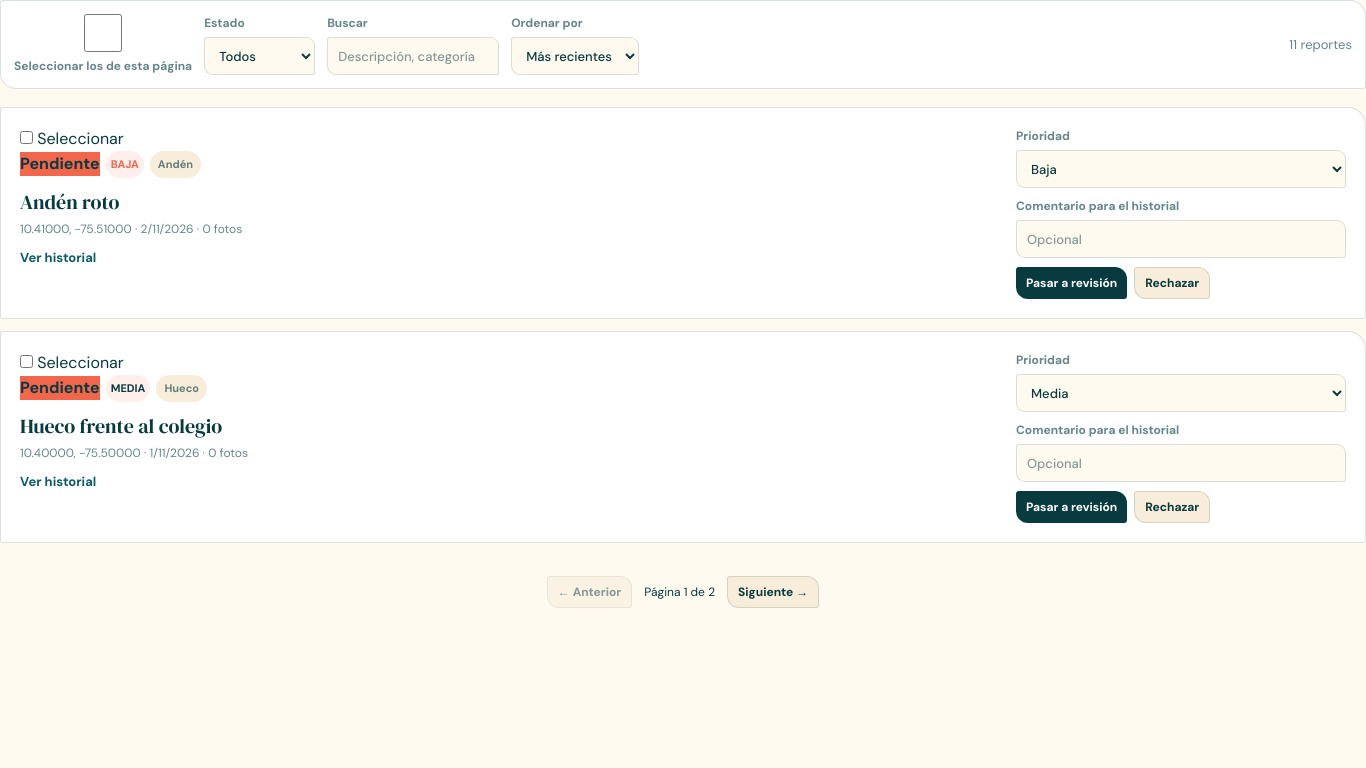
Test: ReportesAdmin › limpia la selección al cambiar el filtro o la página
The image size is (1366, 768).
Expected: the link "Hueco frente al colegio" is shown, [20, 412, 222, 440]
Step 1. Click the checkbox named "Seleccionar reporte Hueco frente al colegio" → (26, 362), box [20, 355, 33, 368]
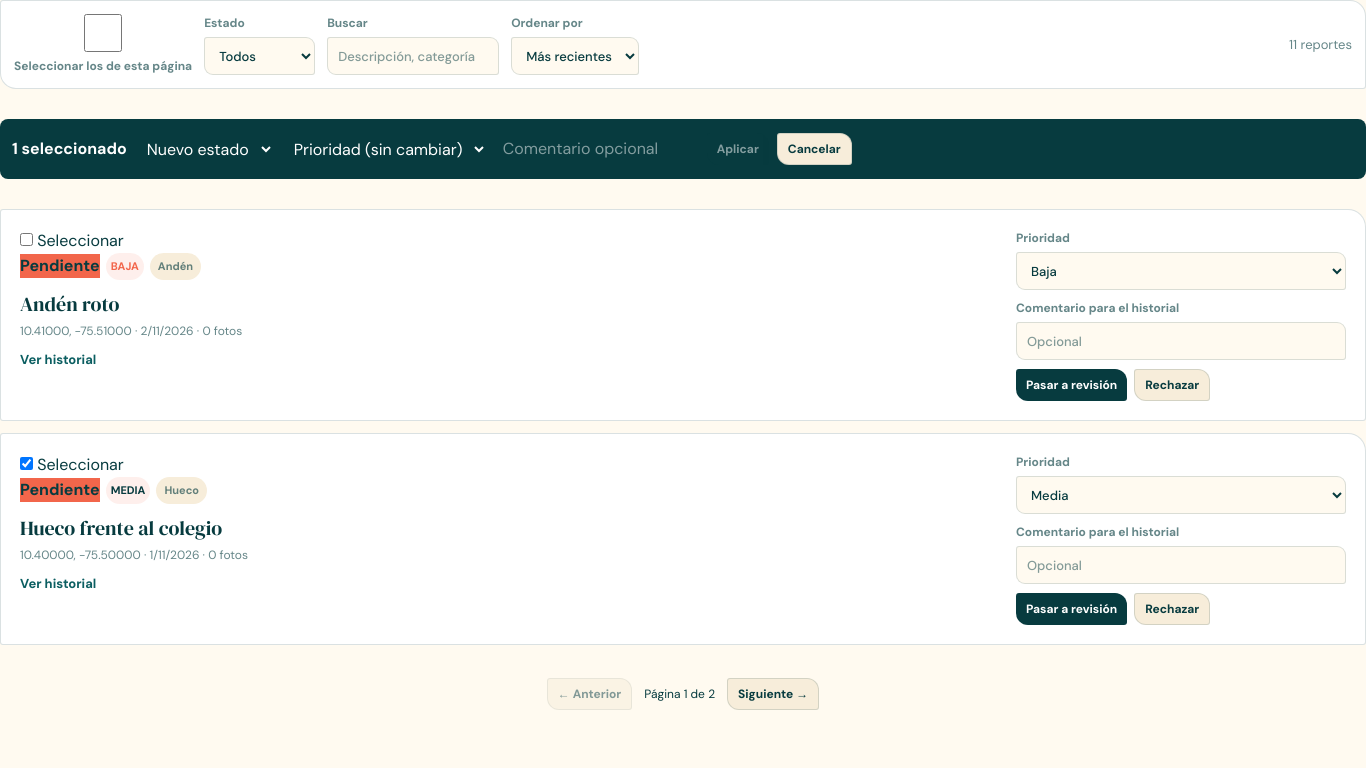
Expected: the text "1 seleccionado" is shown, [12, 137, 127, 161]
Step 2. Select "Pendiente" in the dropdown labelled "Estado" → (260, 56), box [204, 37, 315, 75]
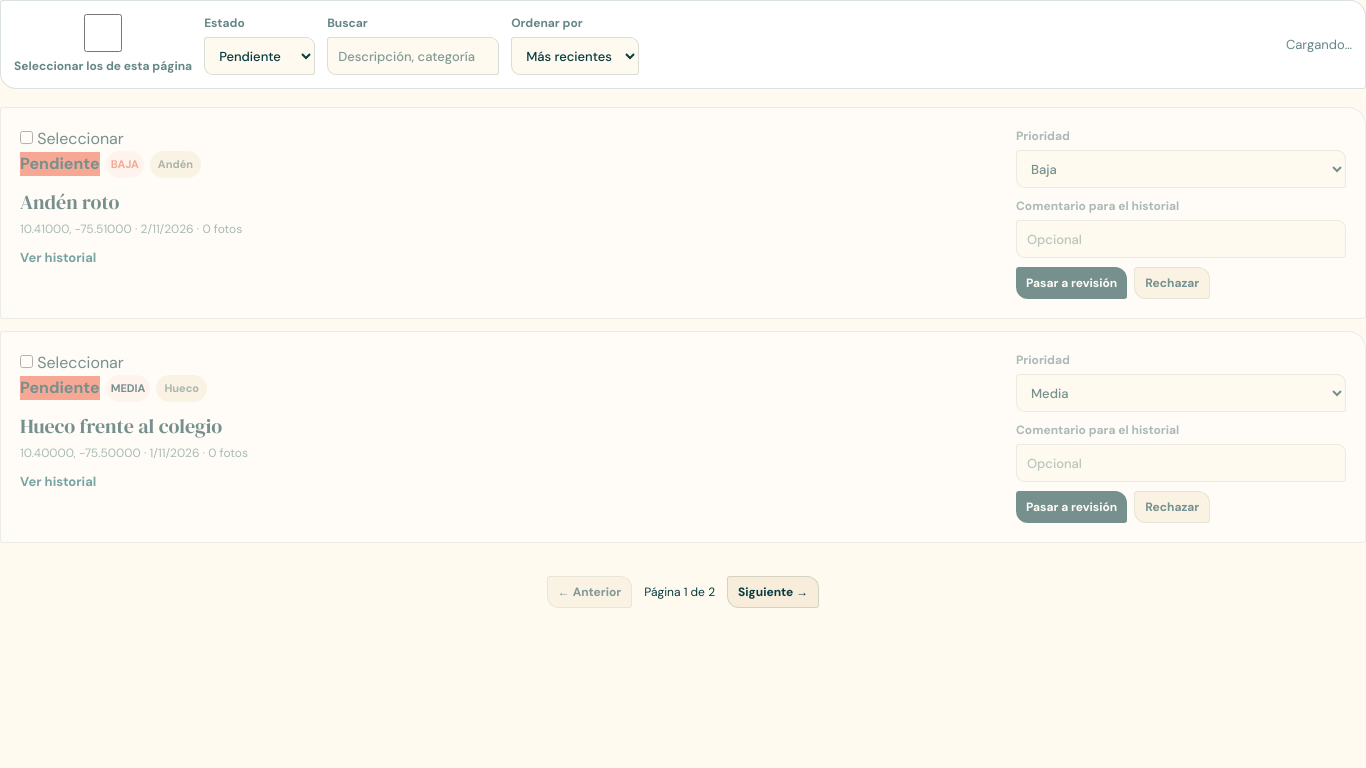
Expected: the text "1 seleccionado" is gone
Step 3. Click the checkbox named "Seleccionar reporte Hueco frente al colegio" → (26, 362), box [20, 355, 33, 368]
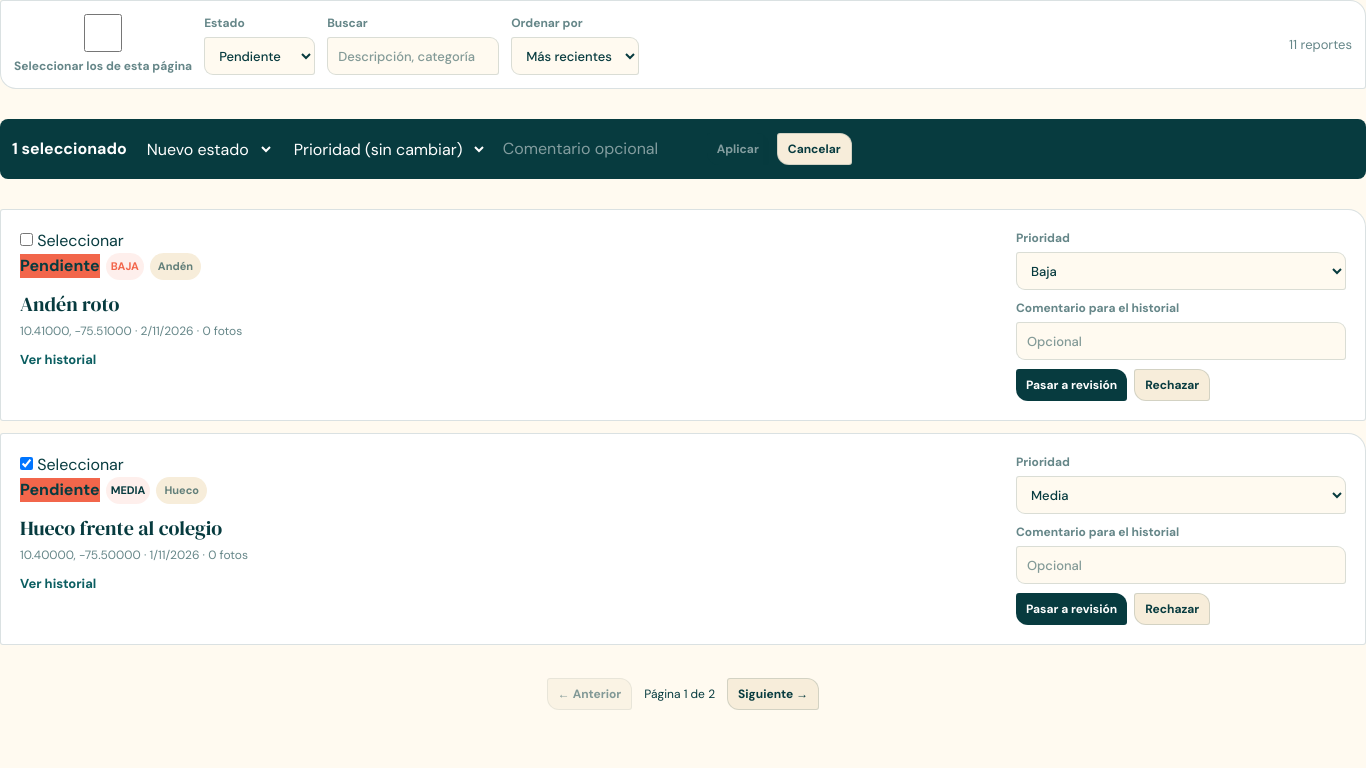
Expected: the text "1 seleccionado" is shown, [12, 137, 127, 161]
Step 4. Click the button "Siguiente →" → (773, 694), box [727, 678, 819, 710]
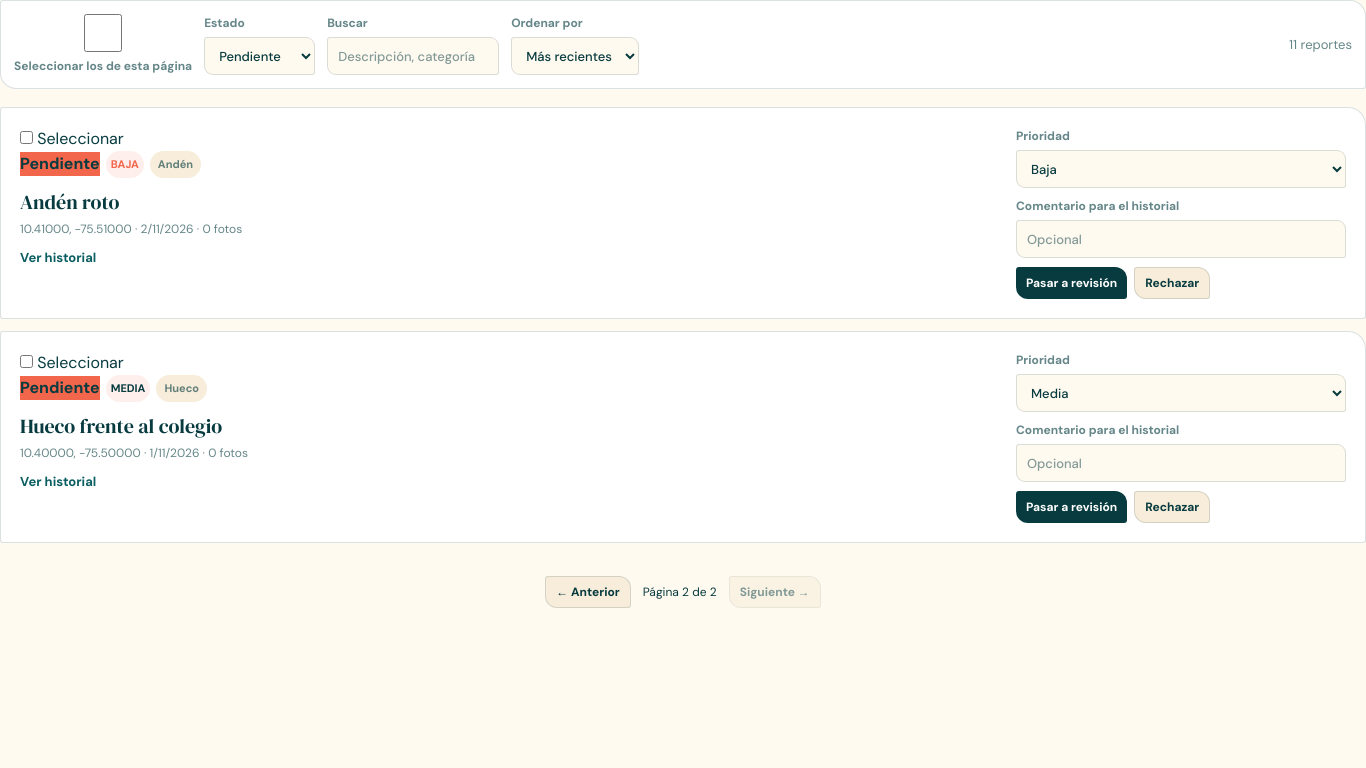
Expected: the text "1 seleccionado" is gone
